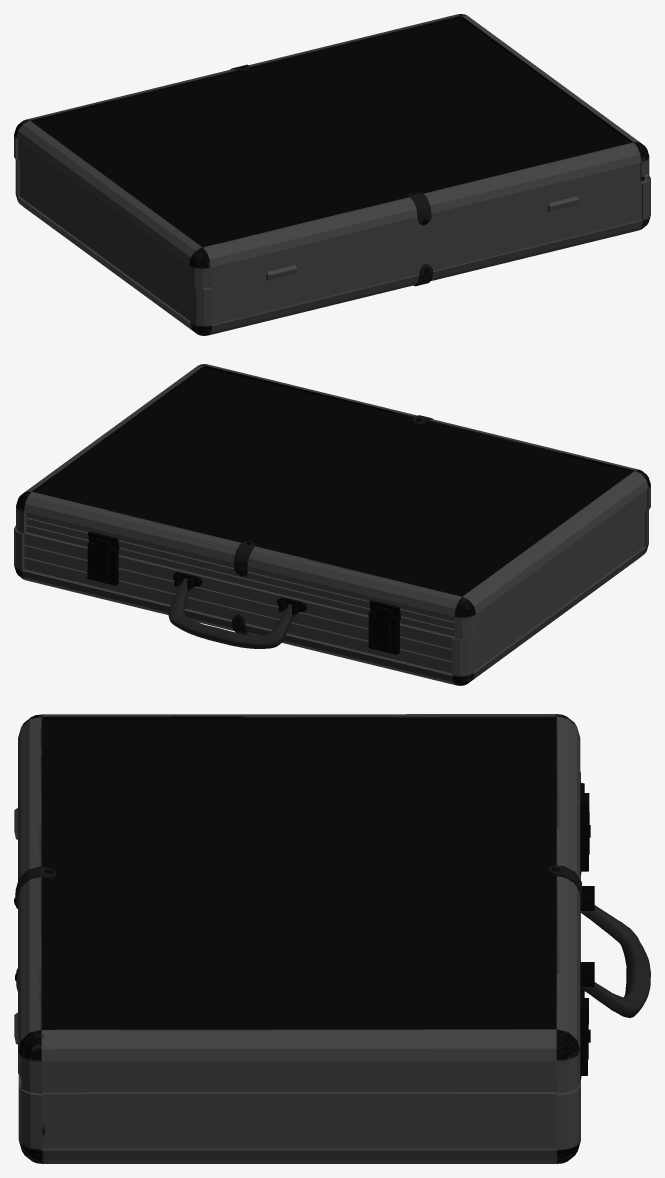
3 views of the same model, one above another, from view 1: azimuth 30°, elevation 25°; view 2: azimuth 150°, elevation 25°; view 3: azimuth 270°, elevation 25° (orthographic). The views are drawn at different scales.
Parts seen in each view (by area): view 1: lid, bottom; view 2: lid, bottom, bottom.001; view 3: lid, bottom, bottom.001.
Boxes of the visible parts, box(x1,y1,x2,y2) form: lid: box(14, 14, 649, 290); bottom: box(15, 160, 650, 335); lid: box(16, 364, 650, 654); bottom: box(14, 510, 648, 685); bottom.001: box(168, 578, 293, 648); lid: box(14, 714, 589, 1093); bottom: box(14, 772, 594, 1163); bottom.001: box(580, 905, 650, 1017).
Bounding box in the file's own units: 45.18 × 8.64 × 36.37.
1 material, 1 textured.
